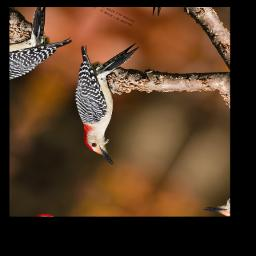Woodpecker: (31, 21, 178, 166)
